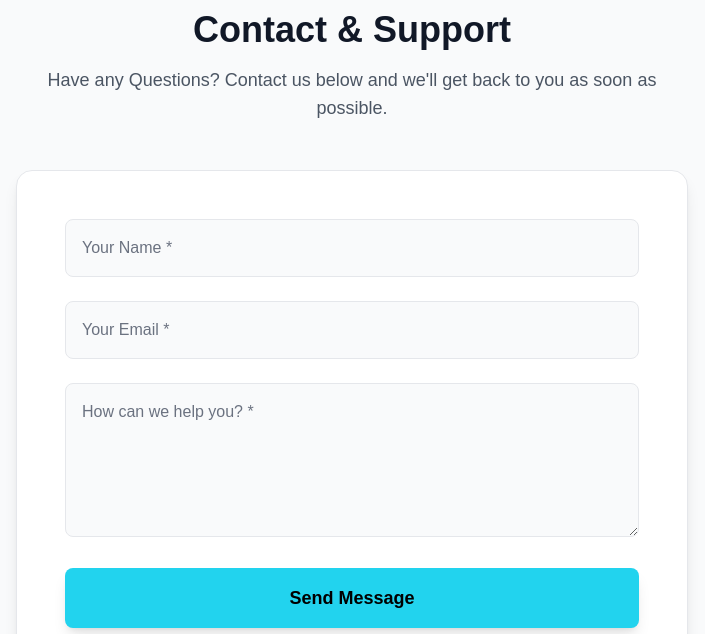
ContactSection Component › submits form successfully with valid data
Type "John Doe" into the field with placeholder "Your Name *" at (352, 248), box [65, 219, 639, 277]
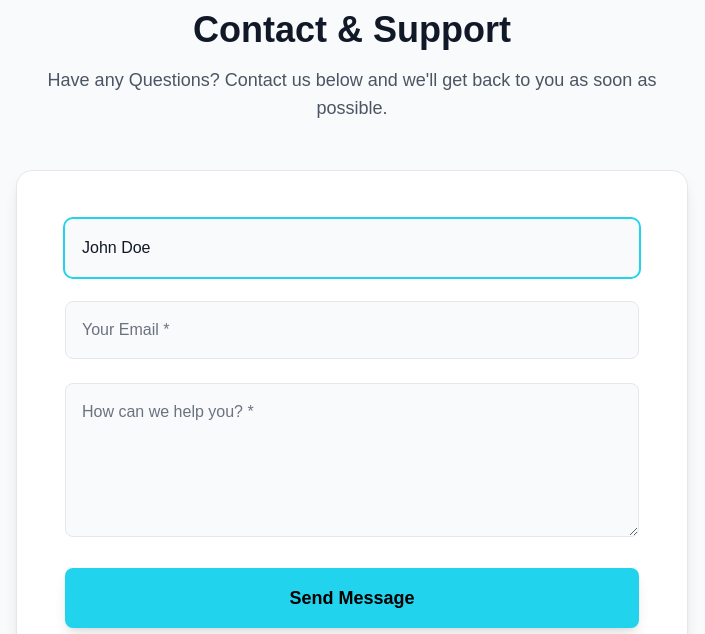
Type "john@example.com" into the field with placeholder "Your Email *" at (352, 330), box [65, 301, 639, 359]
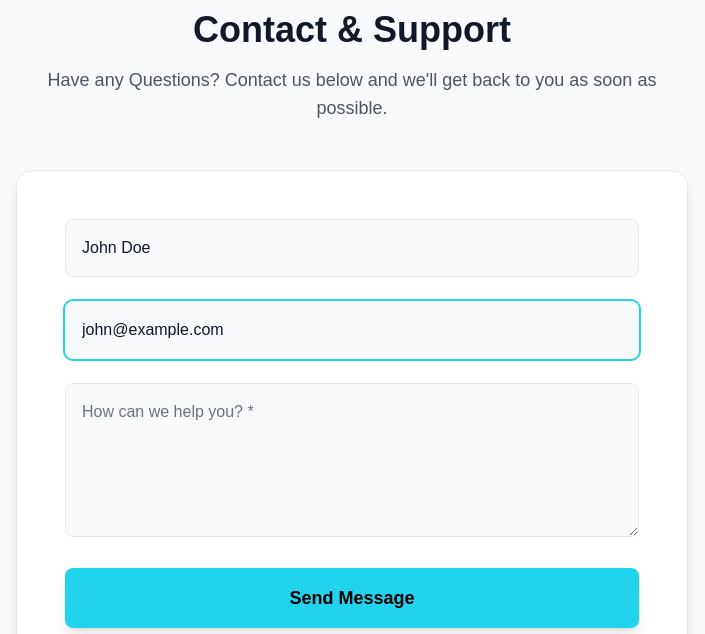
Type "This is a test message" into the text box with placeholder "How can we help you? *" at (352, 460), box [65, 383, 639, 537]
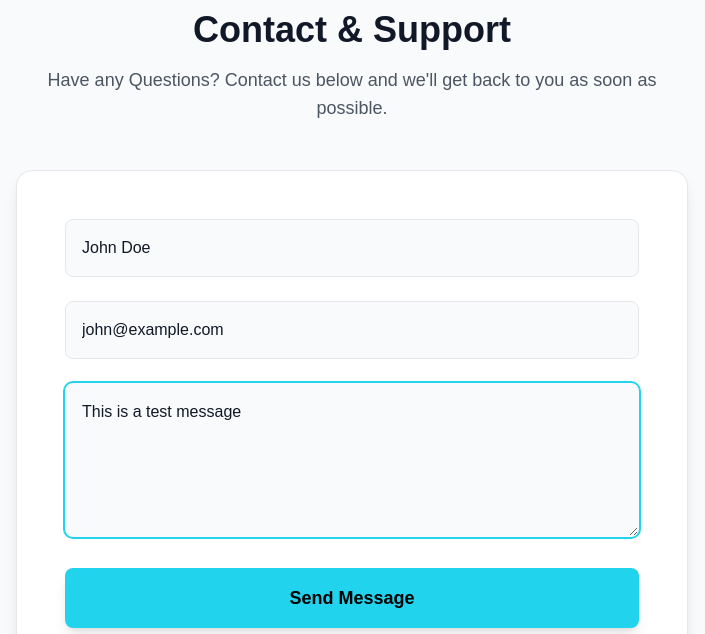
Click the button "Send Message" at (352, 598), box [65, 568, 639, 628]
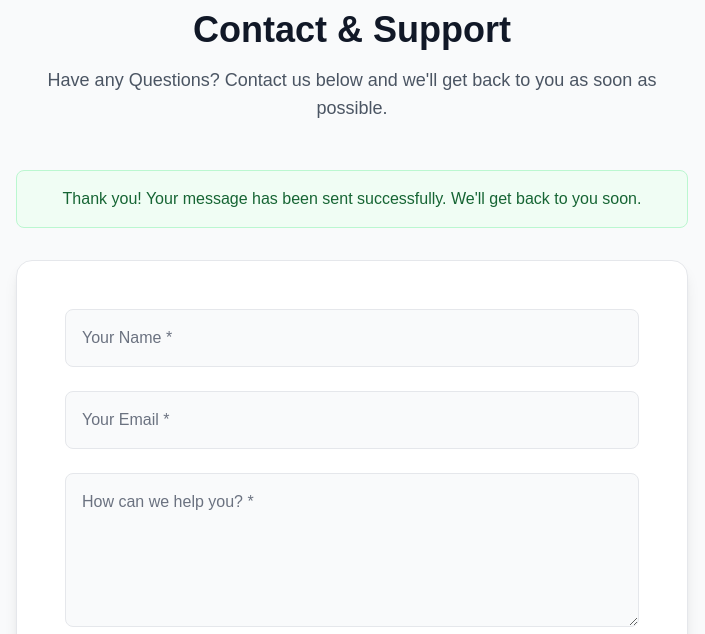
expect the text "Thank you! Your message has been sent successfully" is shown: met, box [63, 190, 641, 207]
